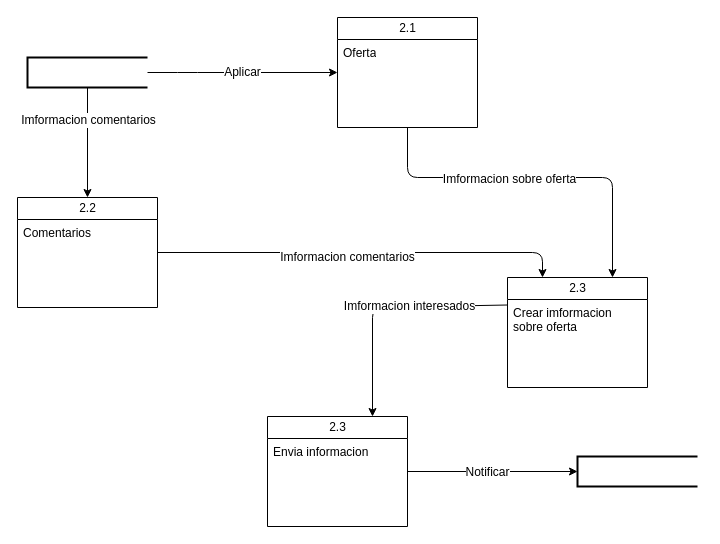
Some shapes in this 720 by 544 pixel diagram are drawn without their labels. Here are the shapes that lost their labels. From the top down, the centre of each, then its label:
At (87,72): "Comprador".
At (637,471): "Administrador".
